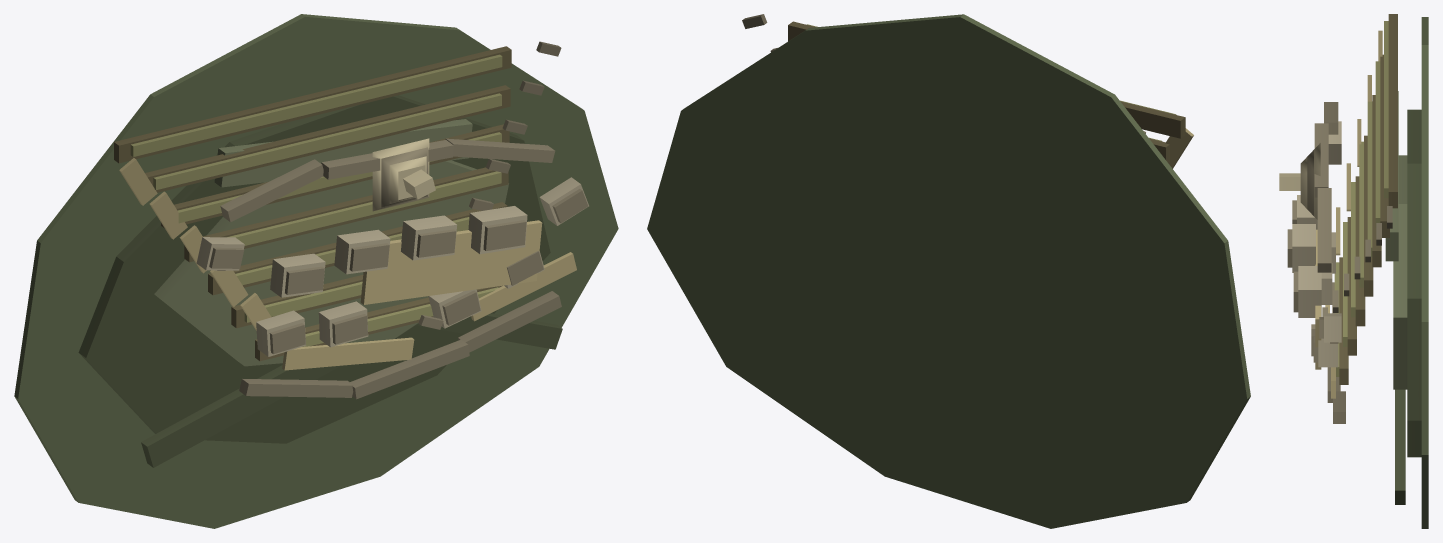
File: machu-picchu.glb
The picture shows the model from 3 angles, left to right: view 1: azimuth 30°, elevation 25°; view 2: azimuth 150°, elevation 25°; view 3: azimuth 270°, elevation 25°; orthographic projection. The views are drawn at different scales.
Parts seen in each view (by area): view 1: part-ground, part-ridgeShade, part-stoneShade, part-terrace, part-ridge, part-terraceWall, part-path, part-stone, part-altar; view 2: part-ground, part-terraceWall; view 3: part-terraceWall, part-ridgeShade, part-stoneShade, part-terrace, part-stone, part-ground, part-ridge, part-path, part-altar.
Part boxes in pixels (x1,y1,x2,y2): part-ground: [14, 14, 618, 528]; part-ridgeShade: [78, 95, 562, 467]; part-stoneShade: [209, 41, 588, 399]; part-terrace: [130, 54, 502, 352]; part-ridge: [154, 119, 508, 366]; part-terraceWall: [114, 46, 511, 361]; part-path: [119, 158, 576, 370]; part-stone: [196, 177, 588, 356]; part-altar: [372, 138, 435, 211]; part-ground: [647, 14, 1250, 528]; part-terraceWall: [788, 21, 1185, 162]; part-terraceWall: [1339, 14, 1397, 384]; part-ridgeShade: [1395, 109, 1421, 504]; part-stoneShade: [1287, 102, 1392, 423]; part-terrace: [1334, 21, 1388, 376]; part-stone: [1292, 121, 1341, 367]; part-ground: [1421, 17, 1428, 528]; part-ridge: [1385, 91, 1407, 389]; part-path: [1315, 30, 1382, 398]; part-altar: [1279, 143, 1320, 219].
Size of the model in its own units: 1.59 by 1.24 by 0.3686.
